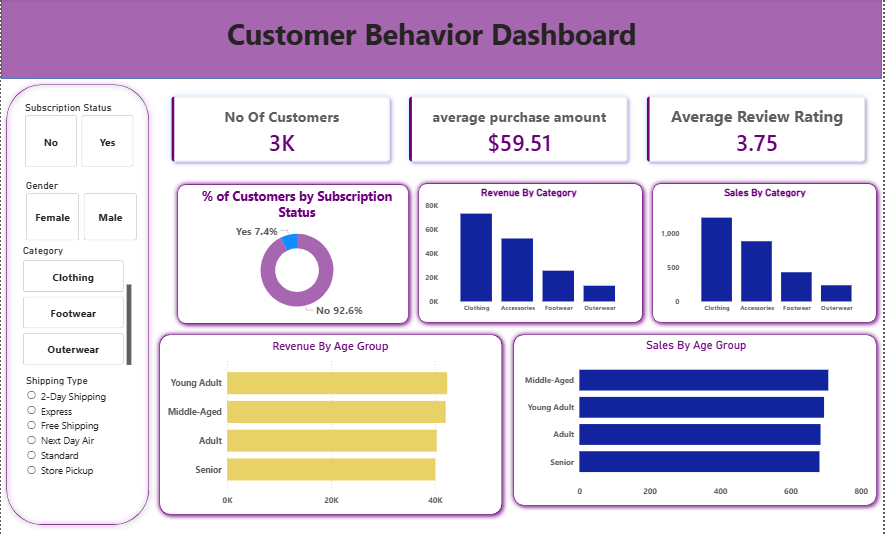

The dashboard page shown, as its layout file describes it:
{"tool":"powerbi","page":{"name":"Page 1","canvas":[1480,910],"ordinal":0},"visuals":[{"type":"cardVisual","fields":{"Data":["customer_behaviour customer.No Of Customers","customer_behaviour customer.average of purchase amount","customer_behaviour customer.Average Review Rating"]},"box":[256.8,135.9,1223.4,168],"z":0},{"type":"shape","box":[0,0,1479.3,135.5],"z":1000},{"type":"textbox","box":[225.2,21,996.3,93.5],"z":2000},{"type":"shape","box":[286.3,303.5,406.6,252],"z":3000},{"type":"donutChart","title":"% of Customers by Subscription Status","fields":{"Y":["Sum(customer_behaviour customer.customer_id)"],"Category":["customer_behaviour customer.subscription_status"]},"box":[314.9,316.8,362.7,223.3],"z":4000},{"type":"shape","box":[691.6,302.8,394.7,251.8],"z":5000},{"type":"shape","box":[1085.3,302.8,394.7,251.8],"z":6000},{"type":"clusteredColumnChart","title":"Revenue By Category","fields":{"Y":["Sum(customer_behaviour customer.purchase_amount)"],"Category":["customer_behaviour customer.category"]},"box":[706,316.4,359,222.9],"z":7000},{"type":"clusteredColumnChart","title":"Sales By Category","fields":{"Y":["CountNonNull(customer_behaviour customer.customer_id)"],"Category":["customer_behaviour customer.category"]},"box":[1102.4,316.4,359,222.9],"z":8000},{"type":"shape","box":[0,135.5,257.7,757.8],"z":9000},{"type":"advancedSlicerVisual","fields":{"Values":["customer_behaviour customer.subscription_status"]},"box":[35.7,173.5,193.9,115.7],"z":10000},{"type":"advancedSlicerVisual","fields":{"Values":["customer_behaviour customer.gender"]},"box":[36.3,303.5,196.6,108.8],"z":11000},{"type":"advancedSlicerVisual","fields":{"Values":["customer_behaviour customer.category"]},"box":[31.9,413,193.1,203.2],"z":12000},{"type":"listSlicer","fields":{"Values":["customer_behaviour customer.shipping_type"]},"box":[36.3,631.8,148.9,229],"z":13000},{"type":"shape","box":[257.7,555.4,593.6,320.7],"z":14000},{"type":"clusteredBarChart","title":"Revenue By Age Group","fields":{"Category":["customer_behaviour customer.age_group"],"Y":["Sum(customer_behaviour customer.purchase_amount)"]},"box":[272.9,570.7,559.3,290.1],"z":15000},{"type":"shape","box":[851.3,555.4,628,305.4],"z":16000},{"type":"clusteredBarChart","title":"Sales By Age Group","fields":{"Category":["customer_behaviour customer.age_group"],"Y":["CountNonNull(customer_behaviour customer.customer_id)"]},"box":[872.3,570.7,587.9,274.9],"z":17000}]}

Visuals, with their boxes in screenshot pixels (x1, y1, x2, y2), scaled from the page's 1480x910 canvas onto the 887x536 screenshot:
cardVisual - customer_behaviour customer.No Of Customers x customer_behaviour customer.average of purchase amount: detection(154, 80, 886, 179)
shape: detection(0, 0, 886, 80)
textbox: detection(135, 12, 732, 67)
shape: detection(172, 179, 415, 327)
"% of Customers by Subscription Status" donutChart: detection(189, 187, 406, 318)
shape: detection(414, 178, 651, 327)
shape: detection(650, 178, 886, 327)
"Revenue By Category" clusteredColumnChart: detection(423, 186, 638, 318)
"Sales By Category" clusteredColumnChart: detection(661, 186, 876, 318)
shape: detection(0, 80, 154, 526)
advancedSlicerVisual - customer_behaviour customer.subscription_status: detection(21, 102, 138, 170)
advancedSlicerVisual - customer_behaviour customer.gender: detection(22, 179, 140, 243)
advancedSlicerVisual - customer_behaviour customer.category: detection(19, 243, 135, 363)
listSlicer - customer_behaviour customer.shipping_type: detection(22, 372, 111, 507)
shape: detection(154, 327, 510, 516)
"Revenue By Age Group" clusteredBarChart: detection(164, 336, 499, 507)
shape: detection(510, 327, 886, 507)
"Sales By Age Group" clusteredBarChart: detection(523, 336, 875, 498)
